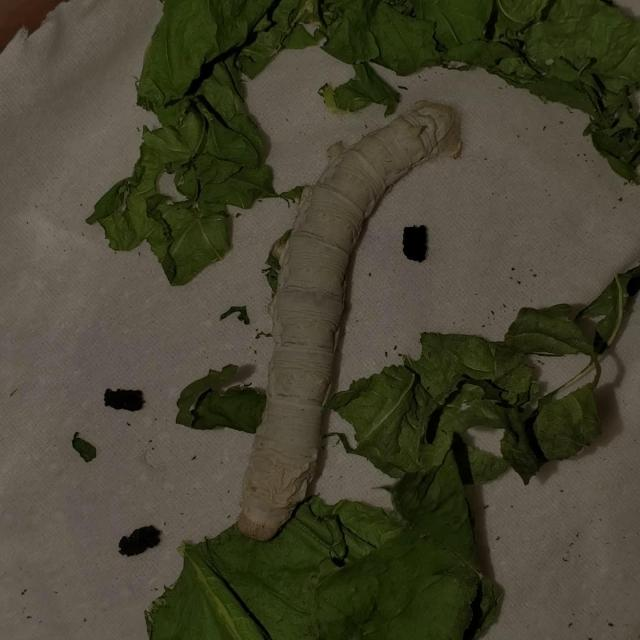Healthy: (231, 97, 472, 543)
